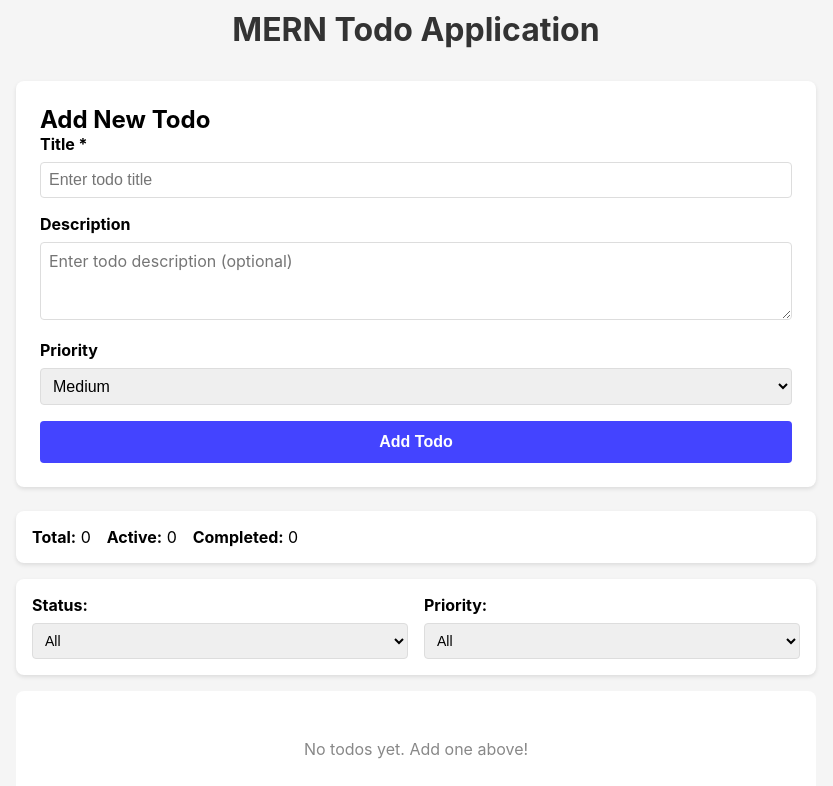
Todo App Integration Tests › handles multiple todos operations in sequence
Type "First Todo" into the field with test id "title-input" at (416, 180), box [40,162,792,198]
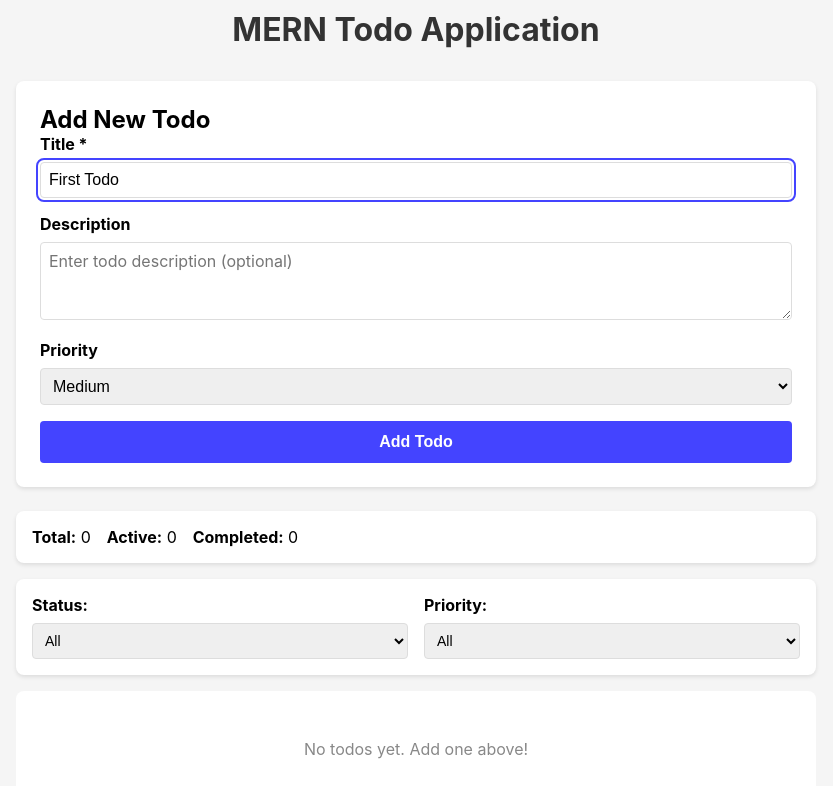
Select "High" in the dropdown with test id "priority-select" at (416, 386), box [40,368,792,405]
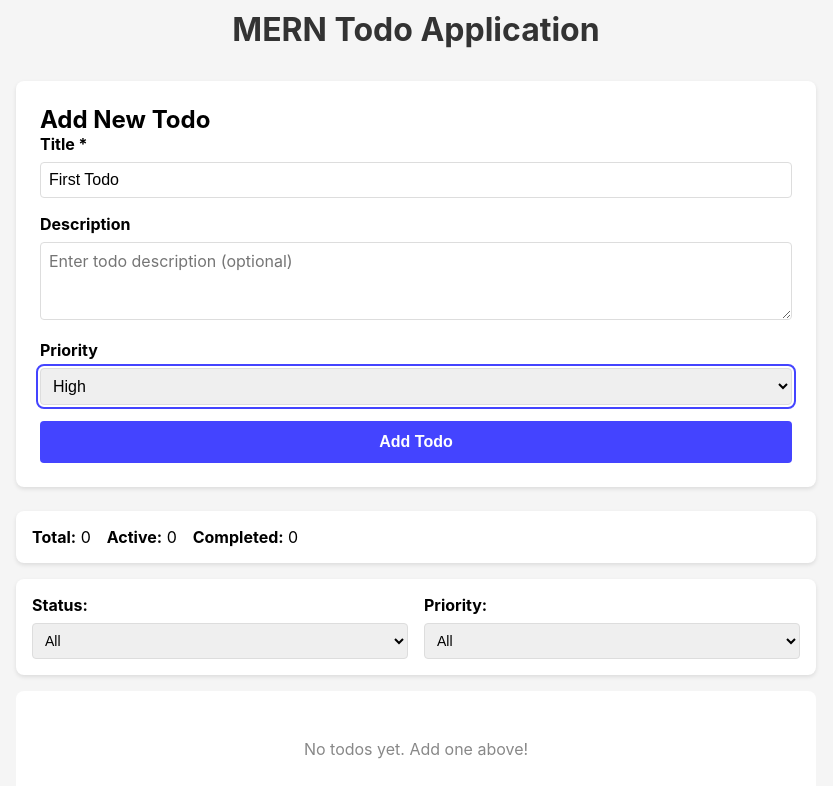
Click the button with test id "submit-button" at (416, 442), box [40,421,792,463]
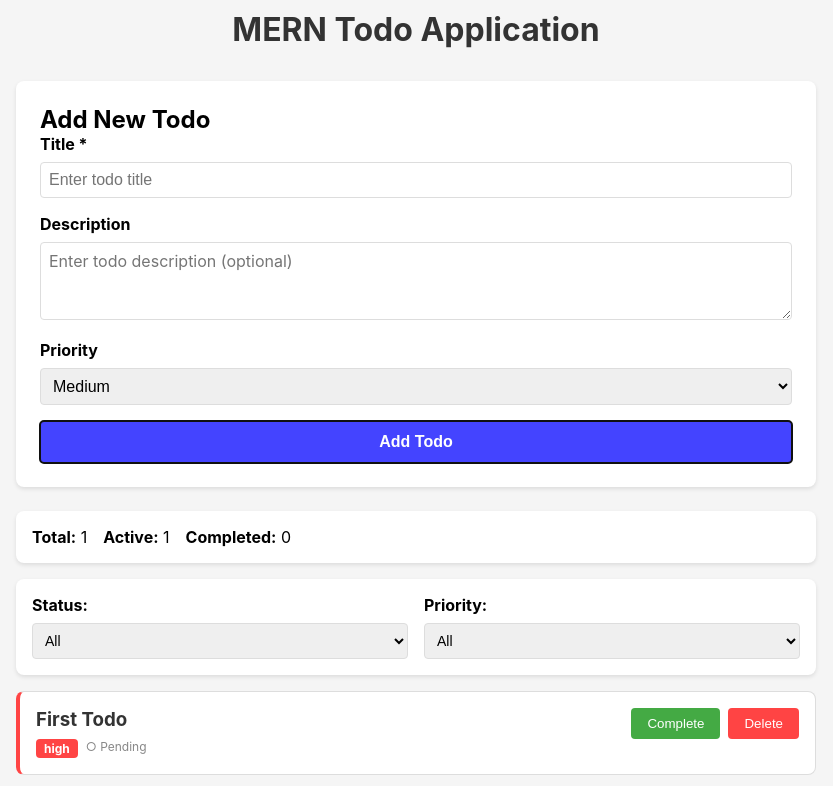
Result: the heading "First Todo" is shown at [36,708,127,731]
Type "Second Todo" into the field with test id "title-input" at (416, 180), box [40,162,792,198]
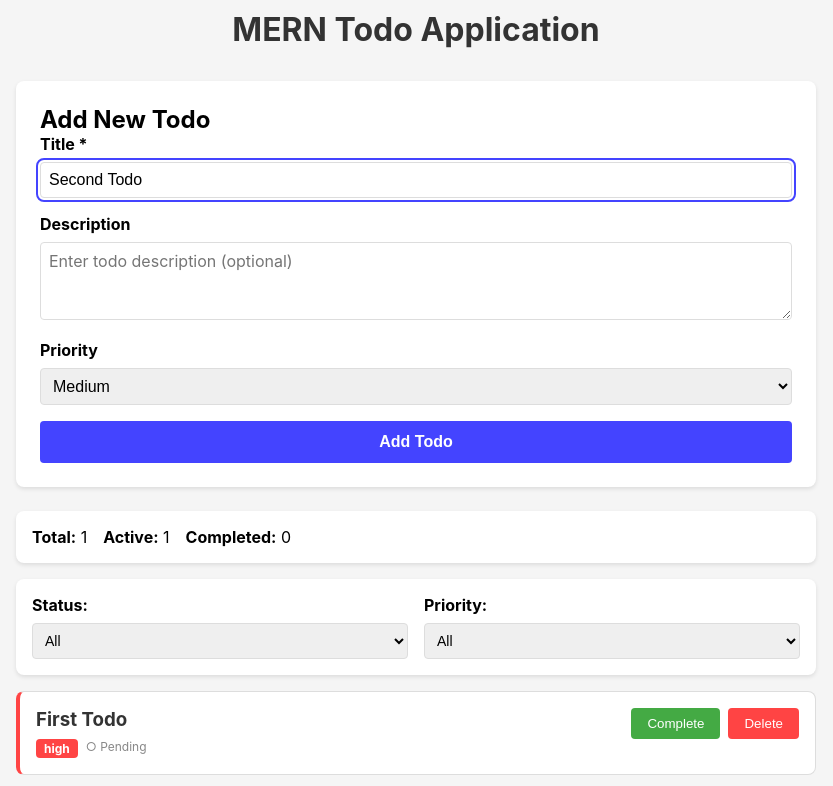
Select "Low" in the dropdown with test id "priority-select" at (416, 386), box [40,368,792,405]
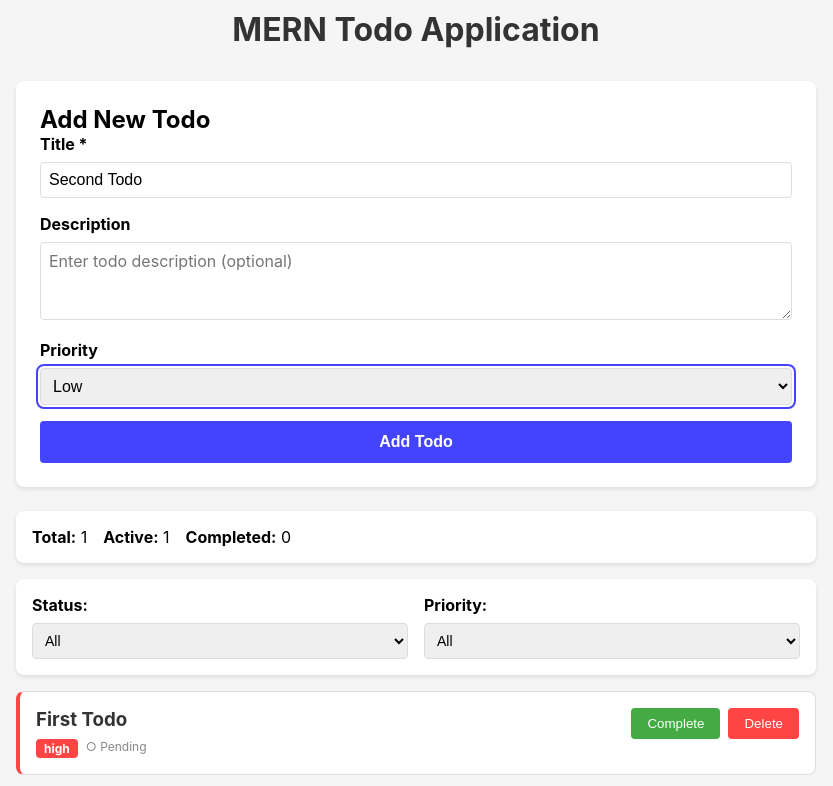
Click the button with test id "submit-button" at (416, 442), box [40,421,792,463]
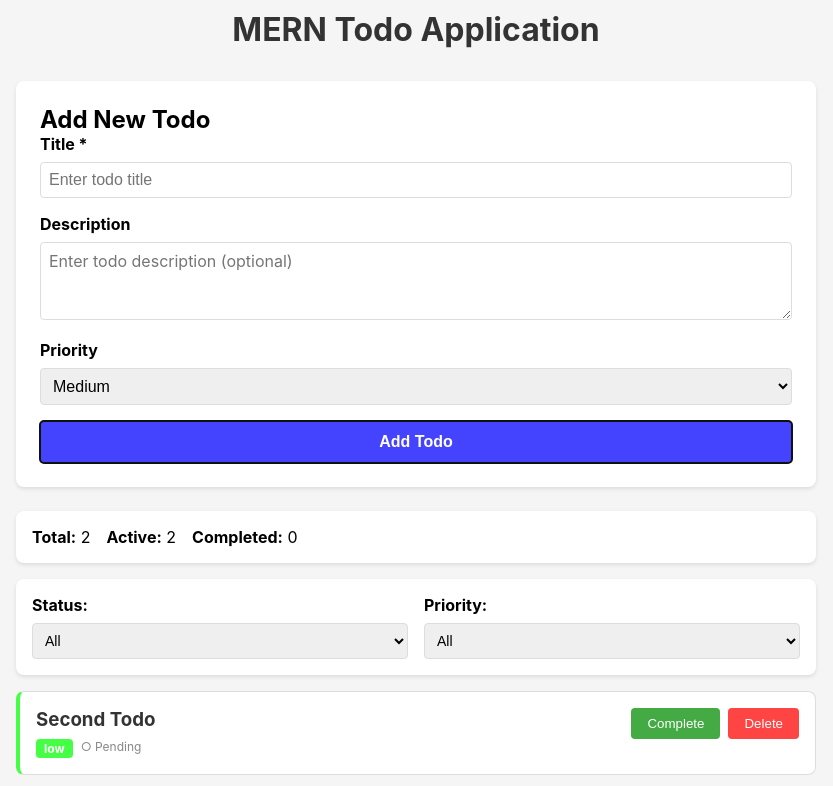
Result: the heading "Second Todo" is shown at [36,708,156,731]
